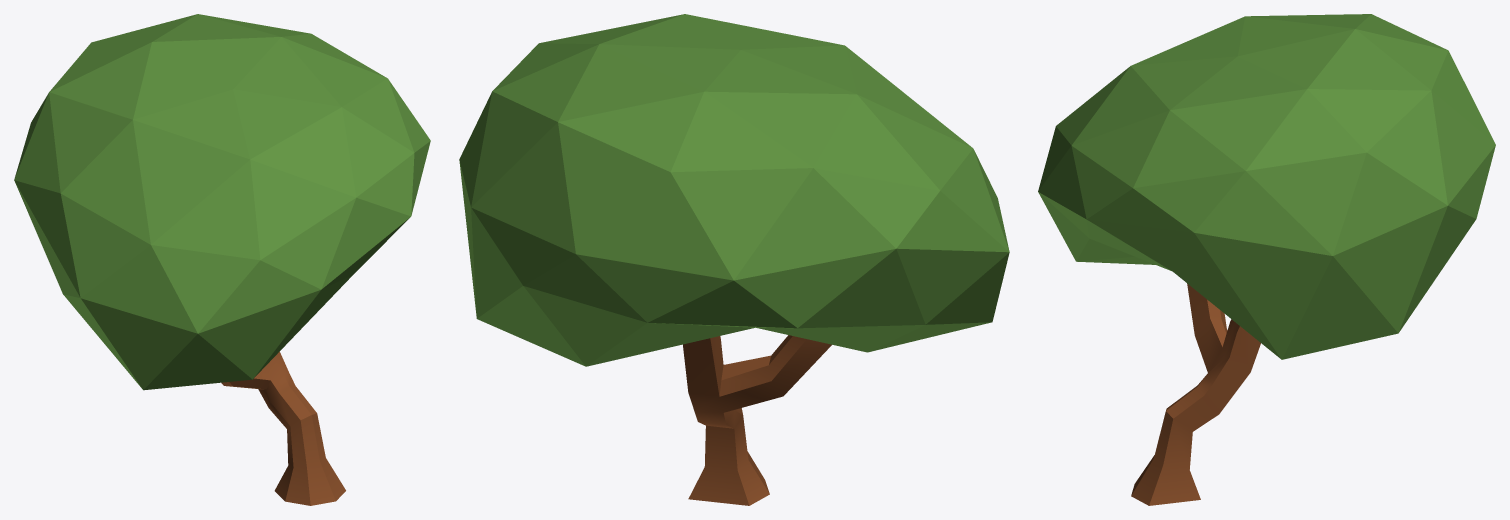
File: Tree_3.fbx
3 views of the same model, side by side, from view 1: azimuth 30°, elevation 25°; view 2: azimuth 150°, elevation 25°; view 3: azimuth 270°, elevation 25° (orthographic). The views are drawn at different scales.
Parts seen in each view (by area): view 1: Tree_3; view 2: Tree_3; view 3: Tree_3.
Part boxes in pixels (box(x1,y1,x2,y2)): Tree_3: box(14, 14, 430, 505); Tree_3: box(459, 14, 1009, 505); Tree_3: box(1038, 14, 1495, 505).
Size of the model in its own units: 598 by 627 by 610.
